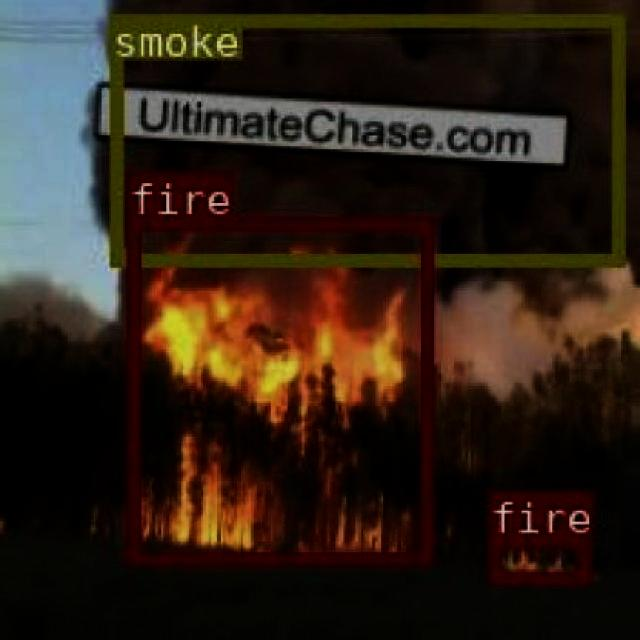fire: (126, 217, 429, 563), (486, 534, 588, 582)
smoke: (107, 13, 624, 264)
